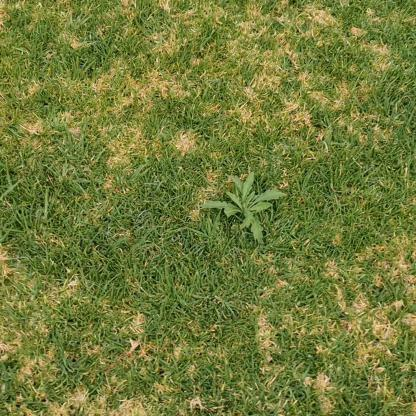Weeds: (200, 172, 286, 245)
